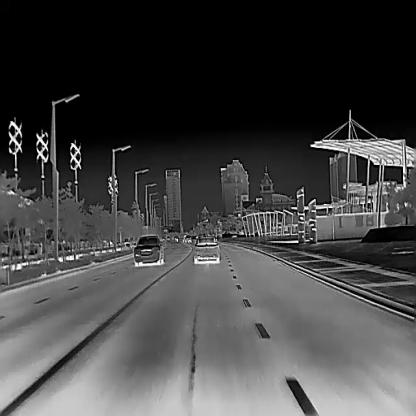car: (132, 234, 164, 266), (192, 235, 220, 264), (184, 234, 192, 243)
